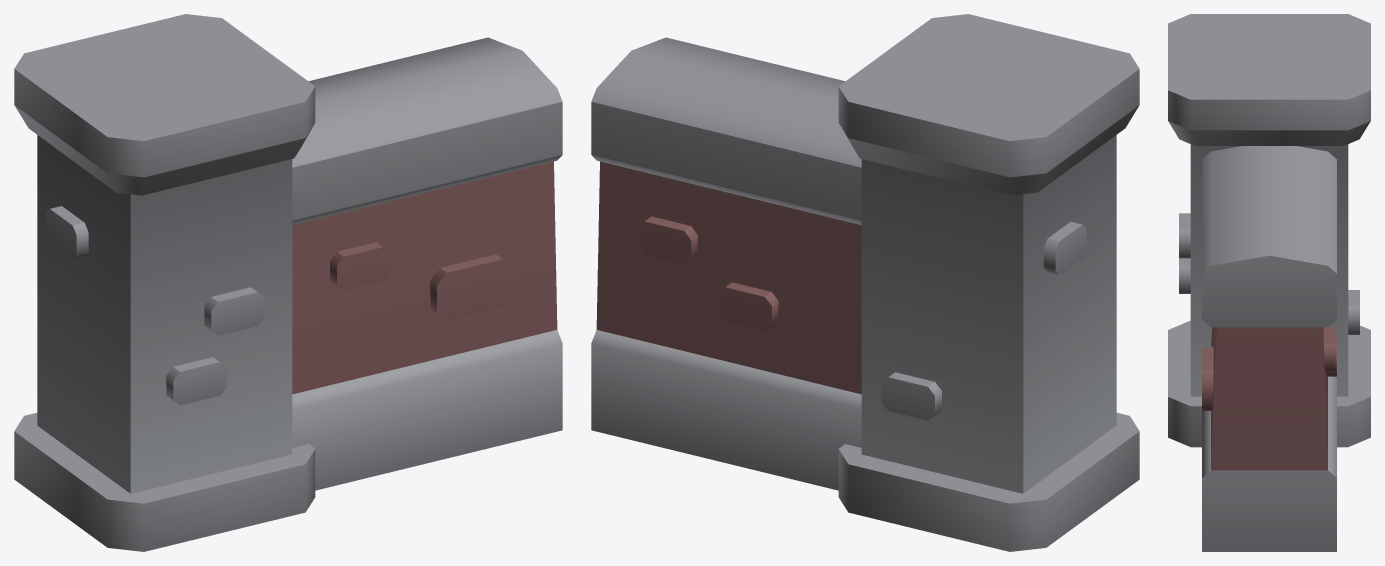
File: brick-wall-end.glb
3 views of the same model, side by side, from view 1: azimuth 30°, elevation 25°; view 2: azimuth 150°, elevation 25°; view 3: azimuth 270°, elevation 25° (orthographic). The views are drawn at different scales.
Parts seen in each view (by area): view 1: brick-wall-end; view 2: brick-wall-end; view 3: brick-wall-end.
Part boxes in pixels (left/top/right/bottom): brick-wall-end: left=14, top=14, right=562, bottom=551; brick-wall-end: left=591, top=14, right=1139, bottom=551; brick-wall-end: left=1168, top=14, right=1370, bottom=551.
Bounding box in the file's own units: 2.4 × 2.04 × 1.08.
Materials: 1 (1 with a texture image).
